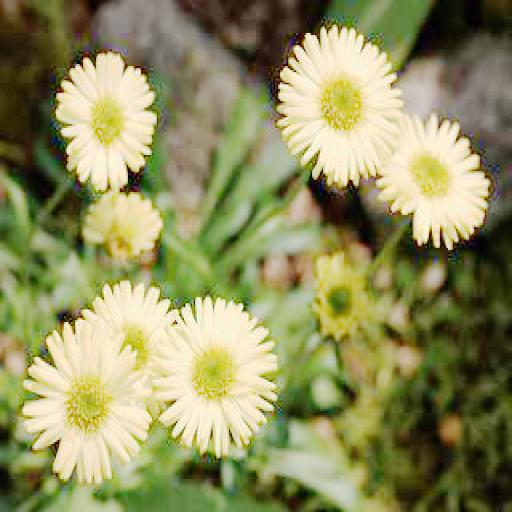daisy: (24, 332, 141, 492), (158, 302, 277, 454), (282, 29, 396, 182), (382, 114, 484, 244), (59, 60, 154, 182), (85, 285, 176, 357)
